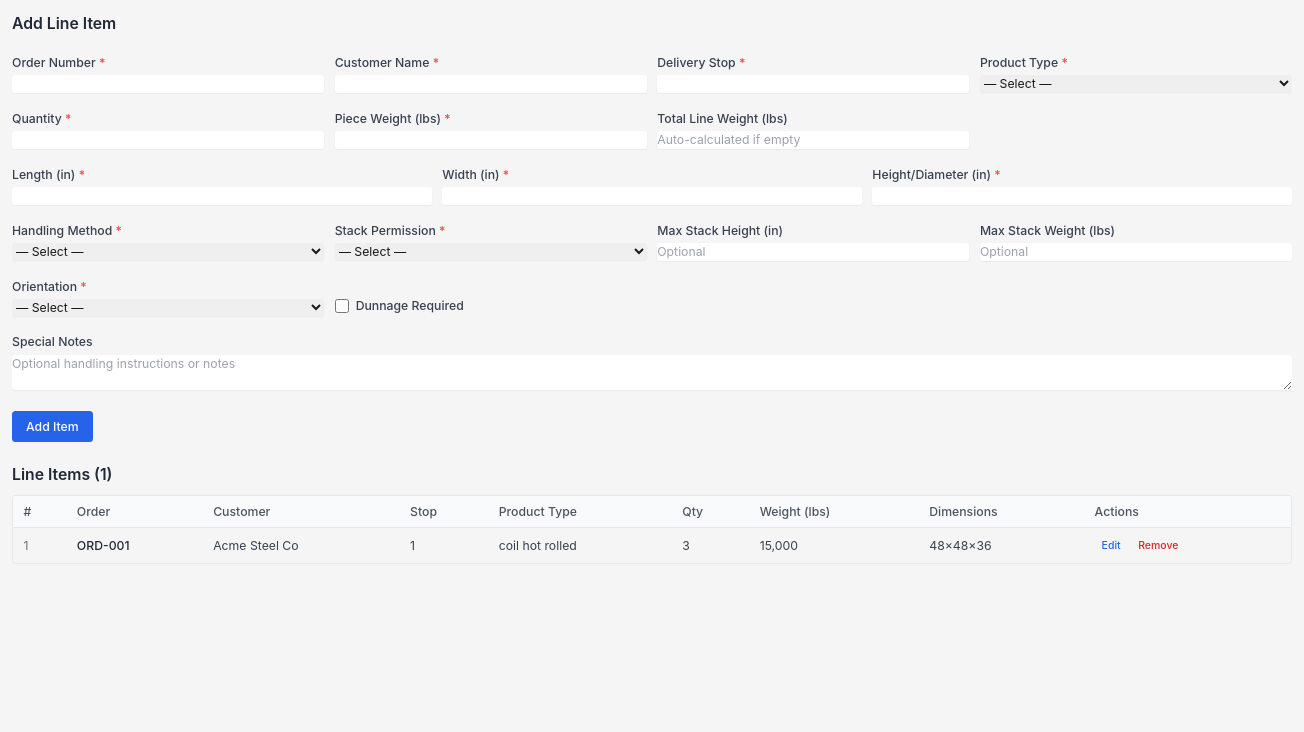
Test: ManualEntryForm: Editing Items › cancels editing and resets form
The width and height of the screenshot is (1304, 732).
Click the button with aria-label "Edit item ORD-001".
click(1111, 546)  # box [1095, 535, 1128, 556]
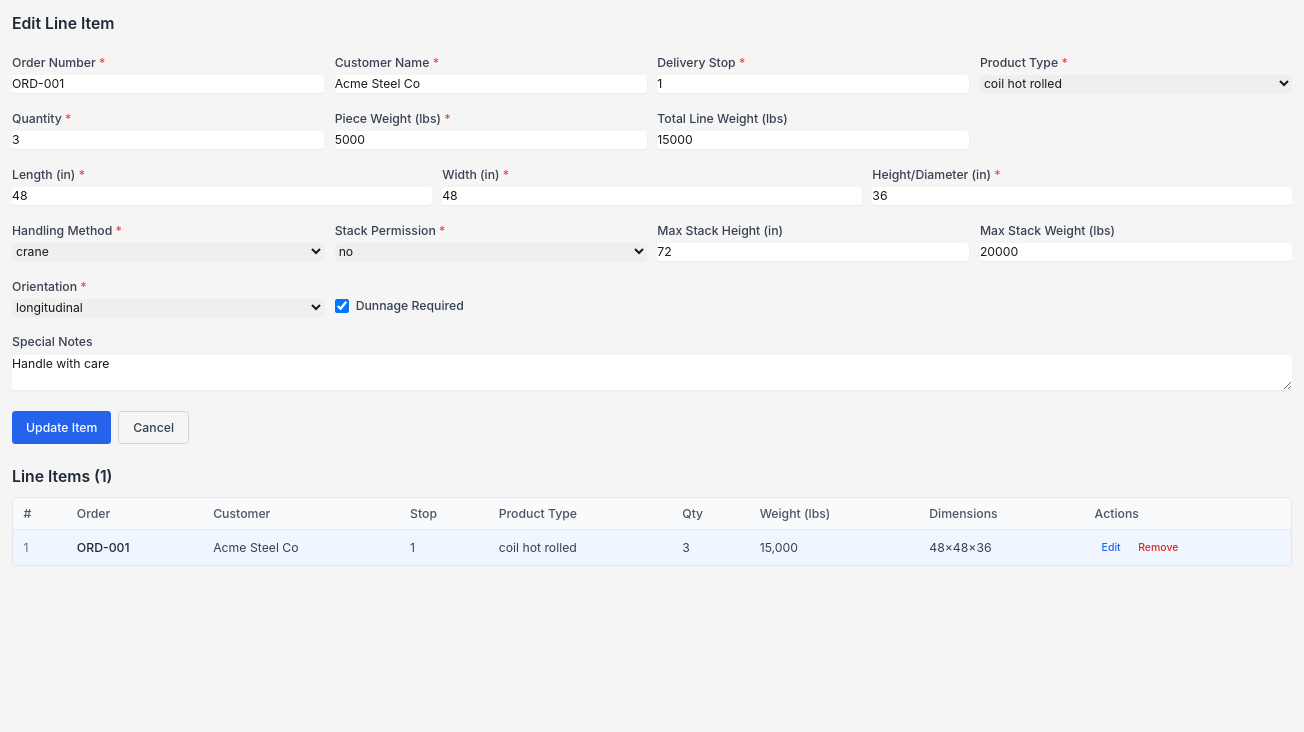
Check: the button "Update Item" is shown, box [12, 410, 111, 444]
Click the button "Cancel".
click(154, 427)  # box [118, 410, 189, 444]
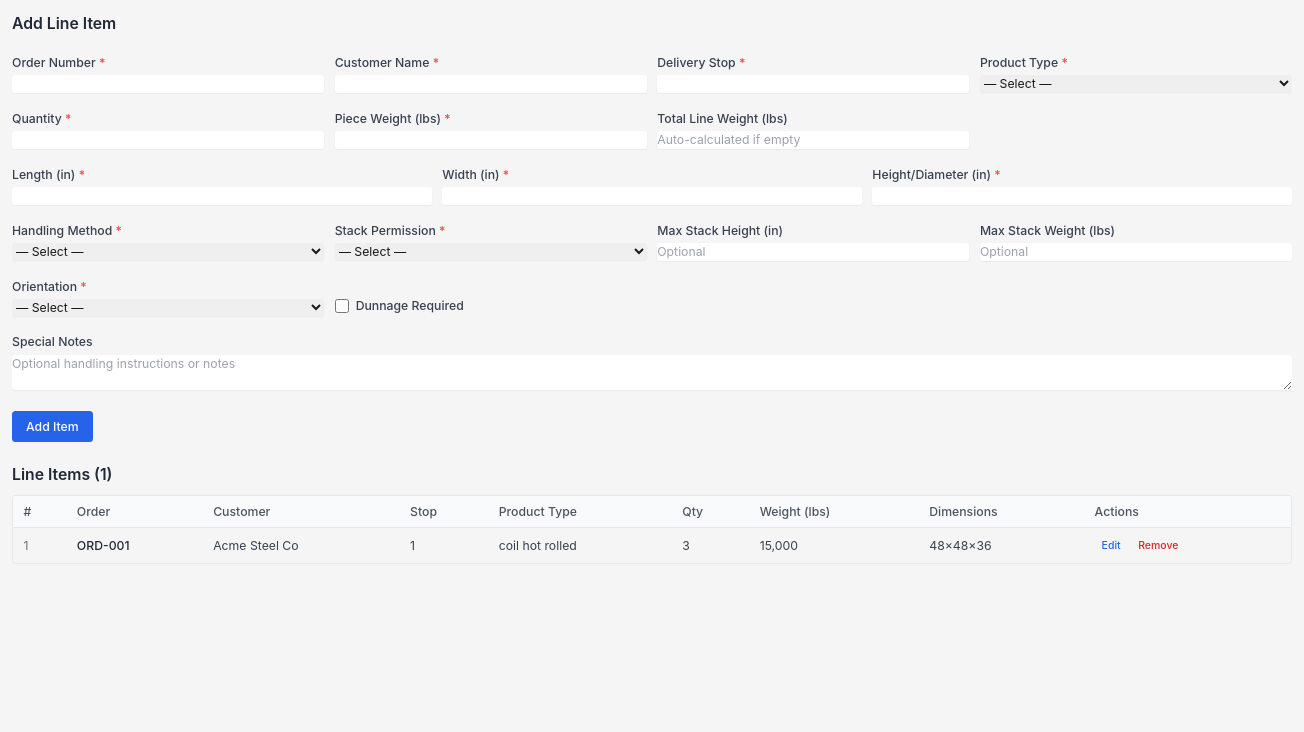
Check: the field labelled "Order Number *" is empty, box [12, 75, 324, 92]
Check: the button "Add Item" is shown, box [12, 410, 93, 442]
Check: the button "Cancel" is gone
